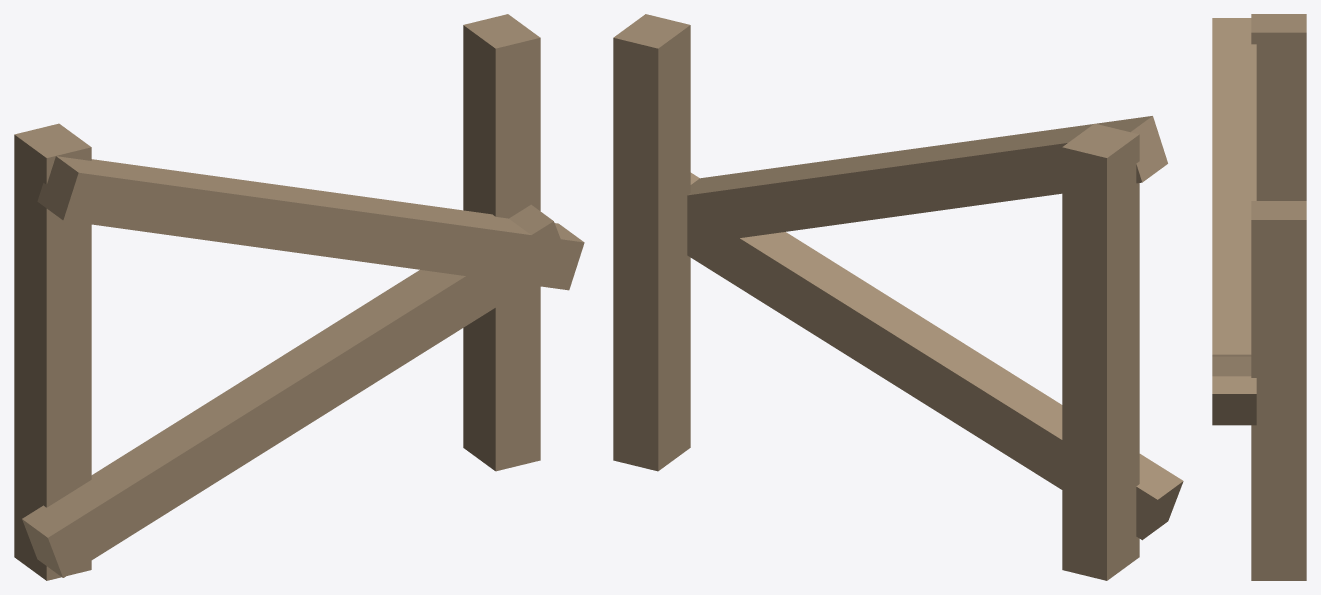
File: zombie-quarantine-streets-timber-cross-brace-93998cb0__19334.glb
3 views of the same model, side by side, from view 1: azimuth 30°, elevation 25°; view 2: azimuth 150°, elevation 25°; view 3: azimuth 270°, elevation 25° (orthographic). The views are drawn at different scales.
Parts seen in each view (by area): view 1: timber-cross-brace; view 2: timber-cross-brace; view 3: timber-cross-brace.
Part boxes in pixels (left/top/right/bottom): timber-cross-brace: left=14, top=14, right=584, bottom=580; timber-cross-brace: left=613, top=14, right=1183, bottom=580; timber-cross-brace: left=1212, top=14, right=1306, bottom=580.
Bounding box in the file's own units: 2.39 × 1.8 × 0.4251.
